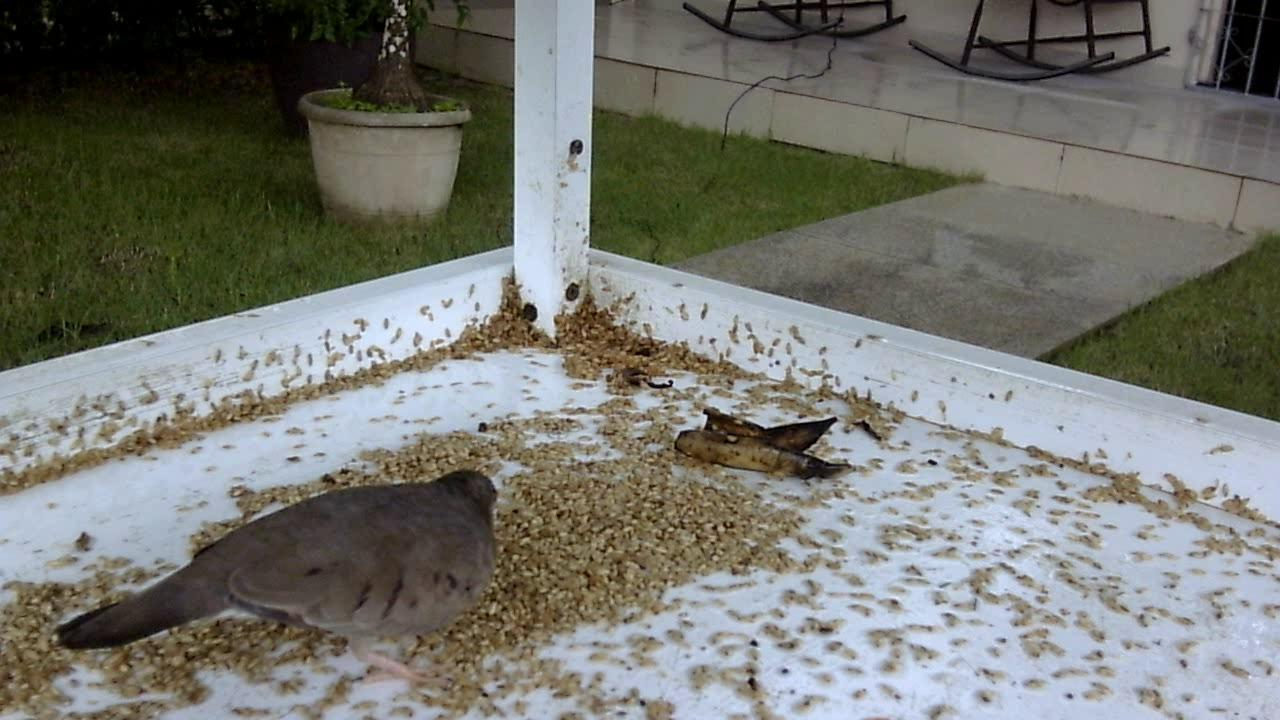rolinha: (48, 463, 517, 683)
